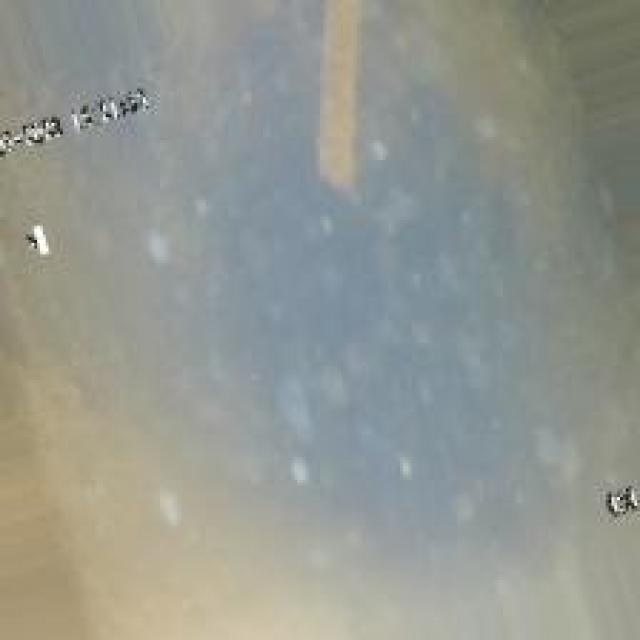ferrule: (308, 3, 368, 200)
